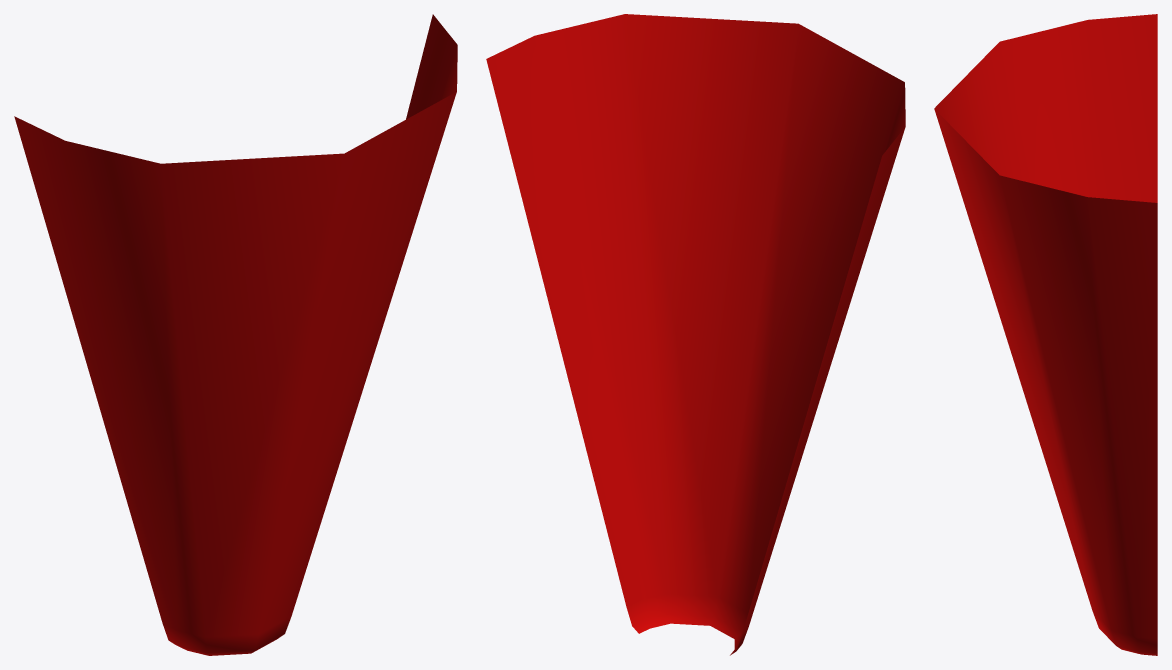
The model's file is PotionLiquid_Blood.fbx.
3 views of the same model, side by side, from view 1: azimuth 30°, elevation 25°; view 2: azimuth 150°, elevation 25°; view 3: azimuth 270°, elevation 25° (orthographic). The views are drawn at different scales.
Parts seen in each view (by area): view 1: PotionLiquid_Blood; view 2: PotionLiquid_Blood; view 3: PotionLiquid_Blood.
Part boxes in pixels (left/top/right/bottom): PotionLiquid_Blood: left=14, top=14, right=457, bottom=655; PotionLiquid_Blood: left=486, top=14, right=905, bottom=655; PotionLiquid_Blood: left=934, top=14, right=1157, bottom=655.
Size of the model in its own units: 46.11 by 59.82 by 23.06.
